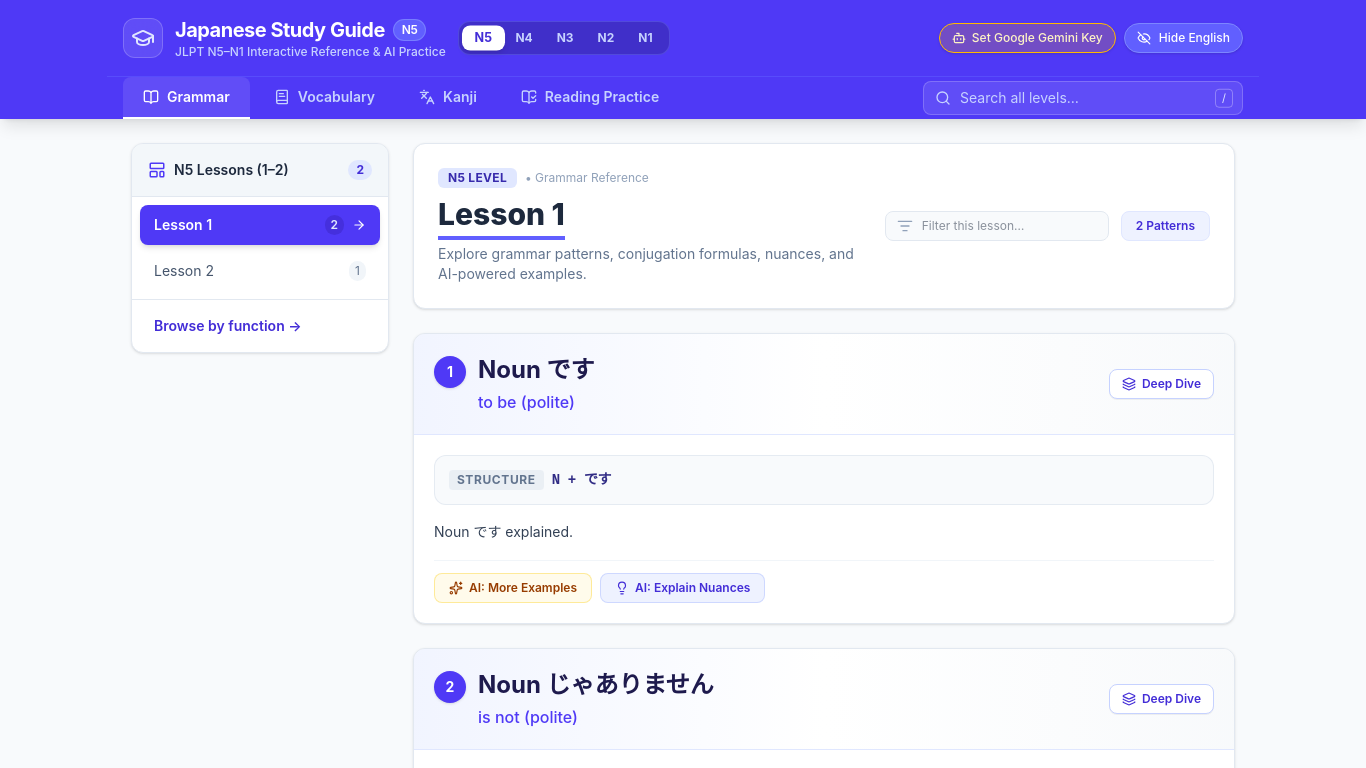
Test: Grammar section shell › navigates when a lesson is clicked
This screenshot has width=1366, height=768.
Click the button "Lesson 2 1": (260, 271) x1=140 y1=251 x2=380 y2=291
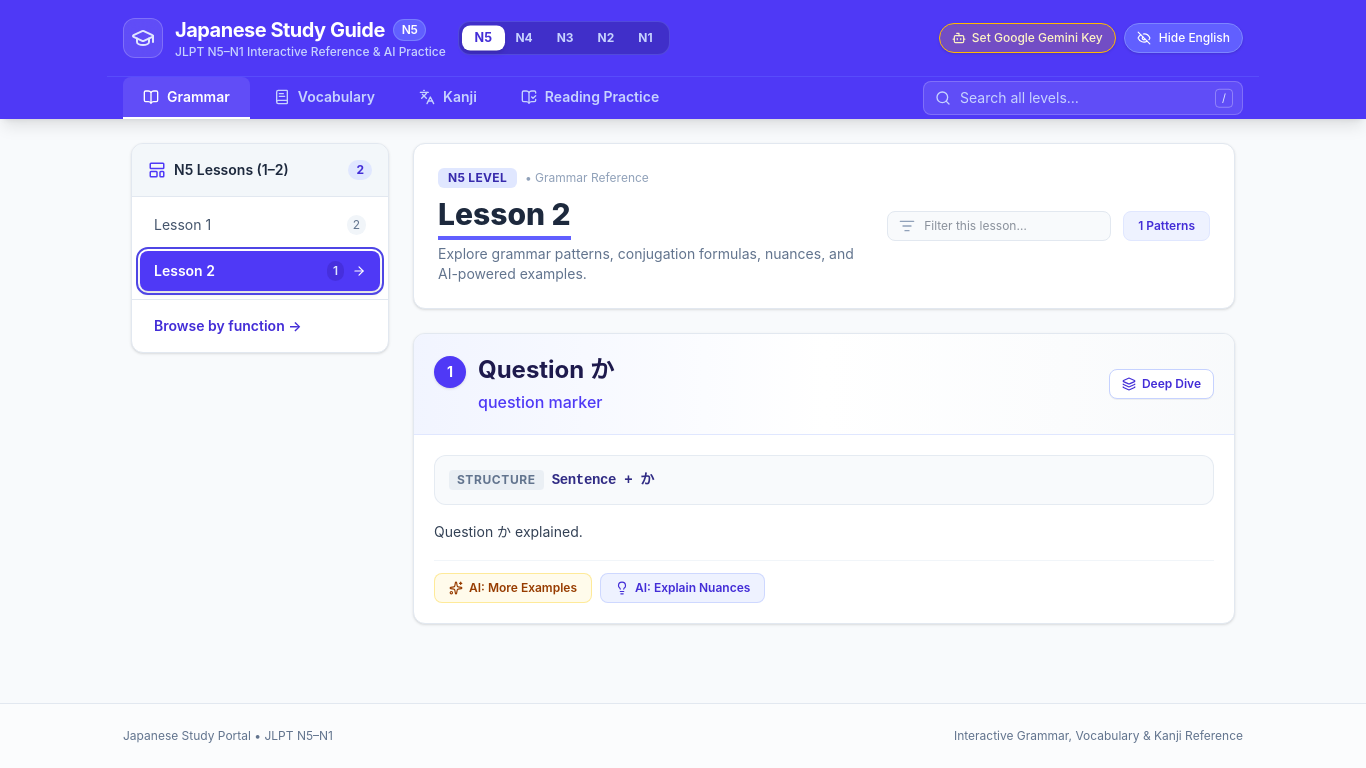
Result: the text "Question か" is shown at x1=478 y1=355 x2=614 y2=384
Result: the text "Noun です" is gone
Result: the heading "Lesson 2" is shown at x1=438 y1=196 x2=571 y2=240
